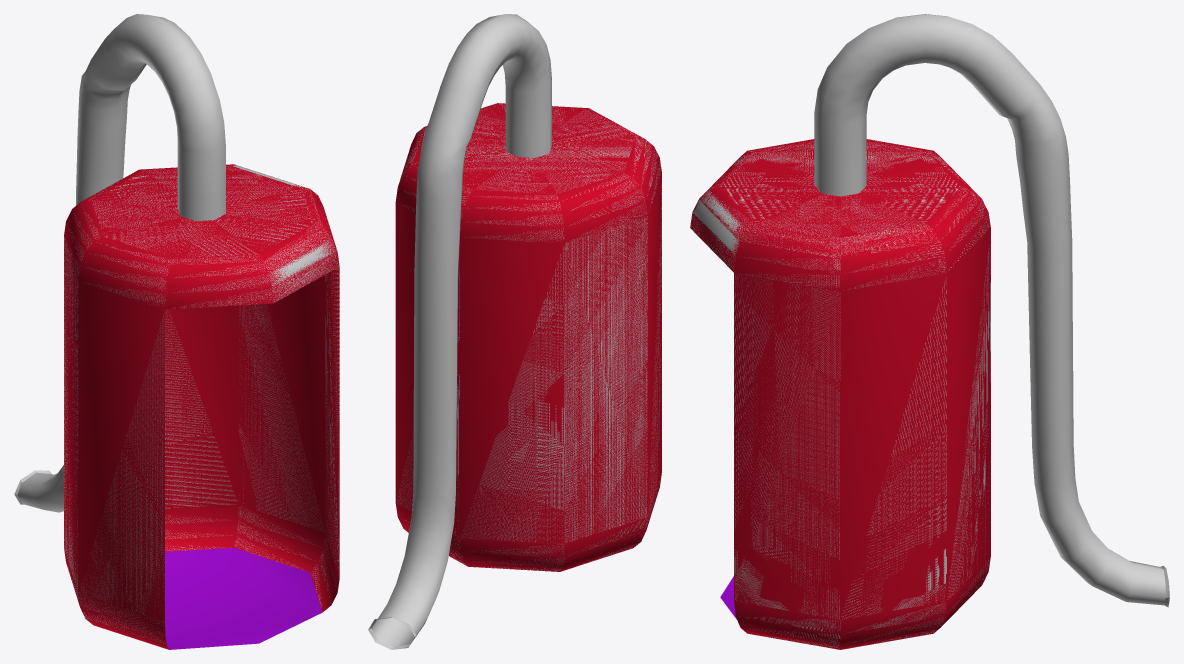
Rendered from kapuseru2.fbx.
3 renders of one model, left to right at view 1: azimuth 30°, elevation 25°; view 2: azimuth 150°, elevation 25°; view 3: azimuth 270°, elevation 25°, orthographic. The views are drawn at different scales.
Parts seen in each view (by area): view 1: kapuseru; view 2: kapuseru; view 3: kapuseru.
Boxes of the visible parts, <box> form: kapuseru: <box>14,14,339,649</box>; kapuseru: <box>368,14,661,649</box>; kapuseru: <box>690,14,1169,649</box>.
Bounding box in the file's own units: 200 × 437 × 319.
